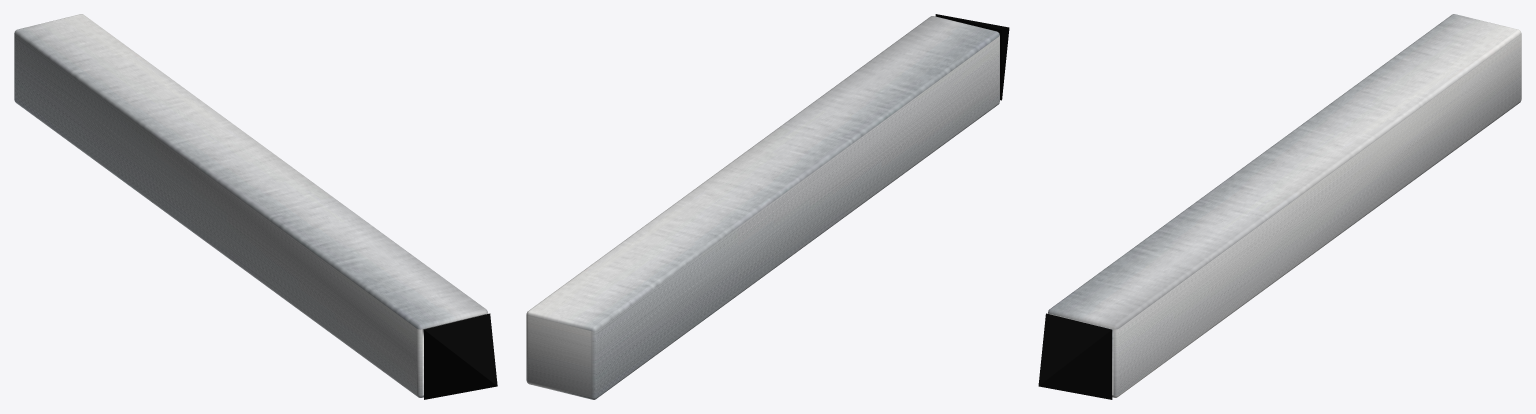
3 renders of one model, left to right at view 1: azimuth 30°, elevation 25°; view 2: azimuth 150°, elevation 25°; view 3: azimuth 330°, elevation 25°, orthographic.
Parts seen in each view (by area): view 1: ChamferBox001; view 2: ChamferBox001; view 3: ChamferBox001.
Boxes of the visible parts, x1,y1,x2,y2 form: ChamferBox001: (14,14,497,399); ChamferBox001: (526,14,1009,399); ChamferBox001: (1038,14,1521,399).
Bounding box in the file's own units: 3.94 × 3.94 × 43.57.
Materials: 2 (1 with a texture image).
